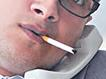smoke: (41, 33, 78, 55)
